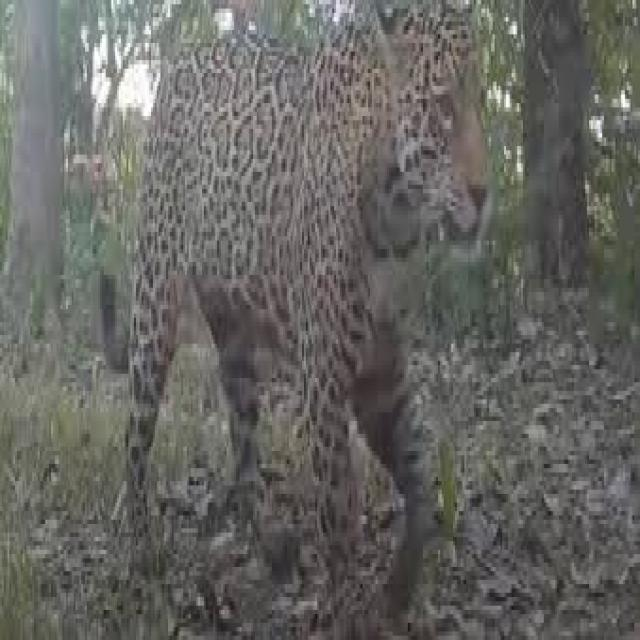Jaguar: (119, 22, 487, 627)
